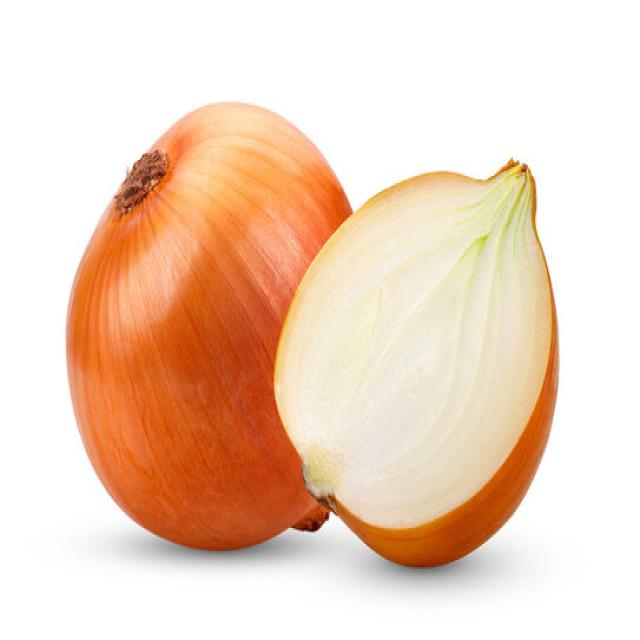Onion: (64, 98, 354, 551), (272, 155, 559, 567)
